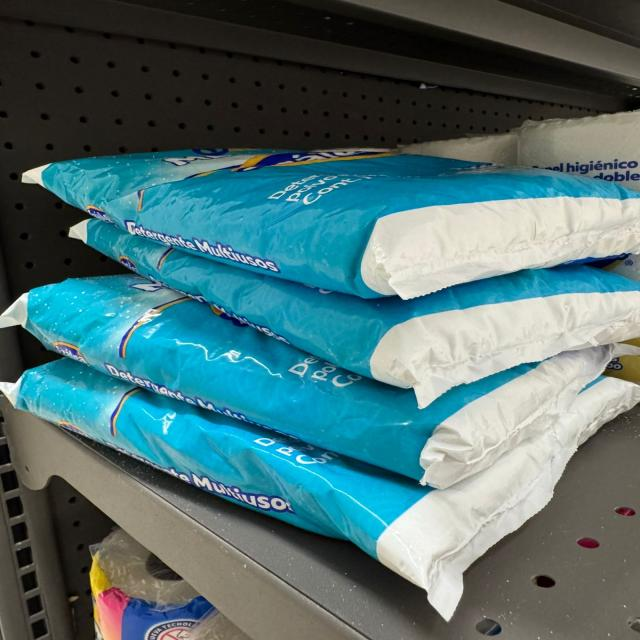DETERGENTE AZALEA MULTIUSOS 800G: (14, 341, 636, 620), (20, 264, 640, 486), (49, 222, 640, 412), (30, 115, 640, 287)
